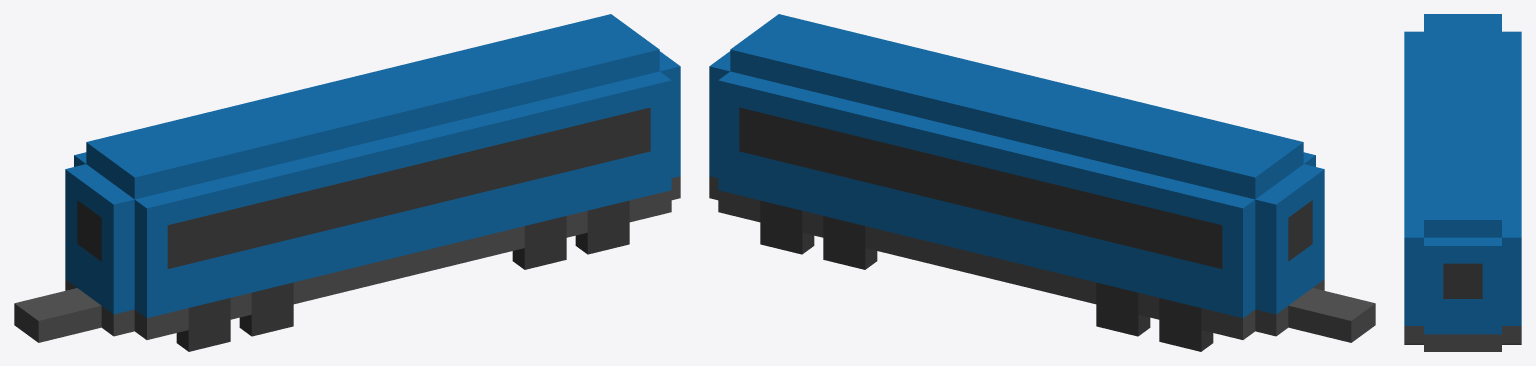
The model's file is train-trailer-v5-blue.gltf.
The picture shows the model from 3 angles, left to right: view 1: azimuth 30°, elevation 25°; view 2: azimuth 150°, elevation 25°; view 3: azimuth 270°, elevation 25°; orthographic projection. The views are drawn at different scales.
Visible parts, largest first — view 1: model, wheels; view 2: model, wheels; view 3: model.
Part boxes in pixels (x1,y1,x2,y2): model: (14, 14, 680, 342); wheels: (176, 200, 629, 351); model: (709, 14, 1375, 342); wheels: (760, 200, 1213, 351); model: (1404, 14, 1521, 351).
Size of the model in its own units: 3 by 0.8 by 0.6.
Materials: 2 (2 with a texture image).
